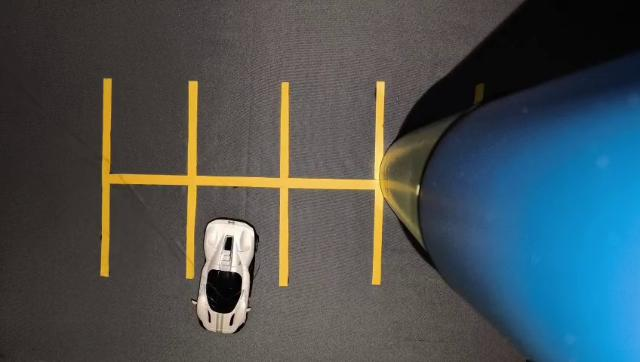toy_car: (180, 202, 281, 361)
